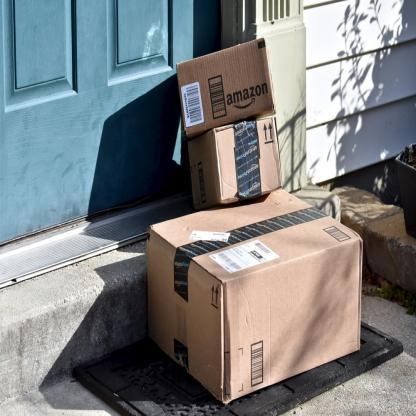package: (140, 184, 366, 408), (174, 35, 282, 137), (187, 117, 282, 210)
